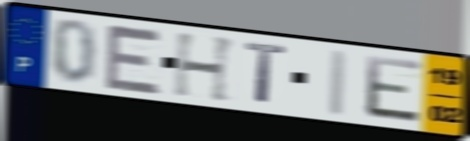0: (50, 19, 100, 87)
E: (102, 21, 164, 98), (363, 53, 425, 126)
H: (171, 31, 239, 105)
I: (324, 47, 351, 119)
T: (243, 40, 290, 107)
